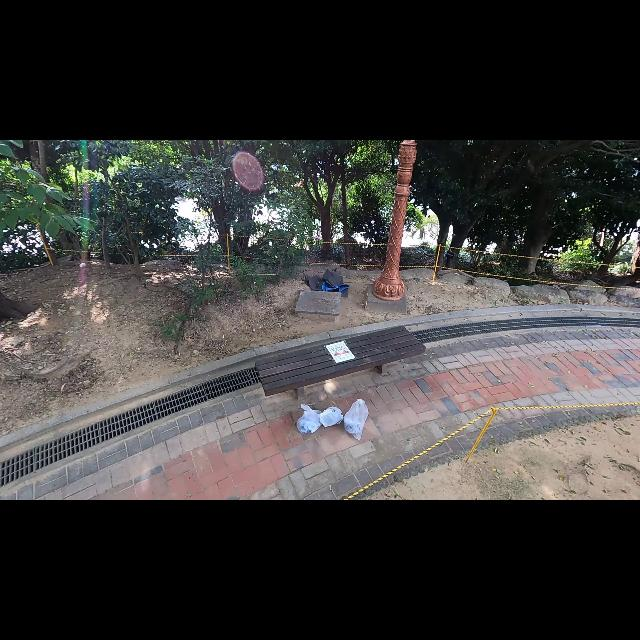trash: (303, 267, 351, 299), (342, 398, 372, 442), (295, 402, 323, 436), (315, 406, 343, 430)
